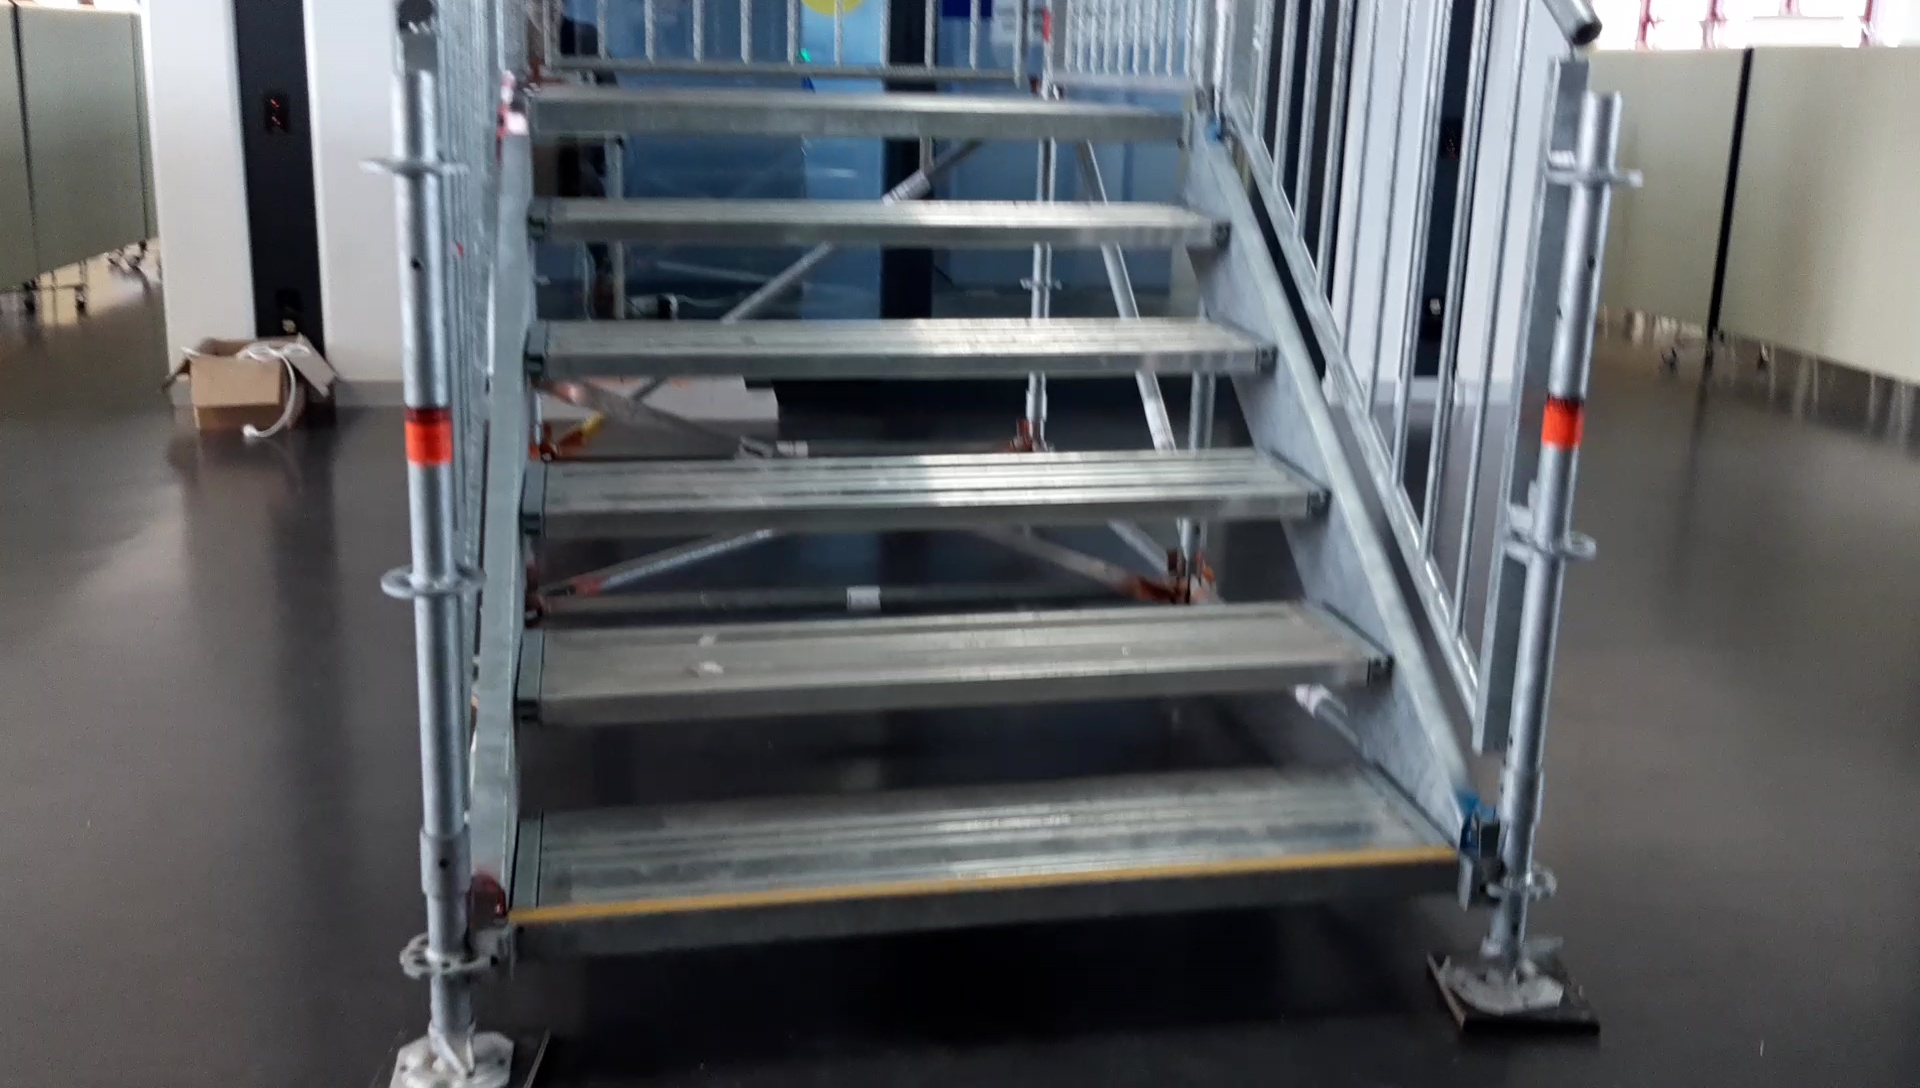brick: (745, 390, 775, 419)
edge: (506, 855, 1465, 959), (517, 655, 1393, 721), (520, 491, 1329, 538), (527, 98, 1192, 140), (527, 343, 1276, 376), (527, 222, 1232, 248)
stairs: (360, 3, 1604, 1083)
steps: (502, 92, 1472, 979)
